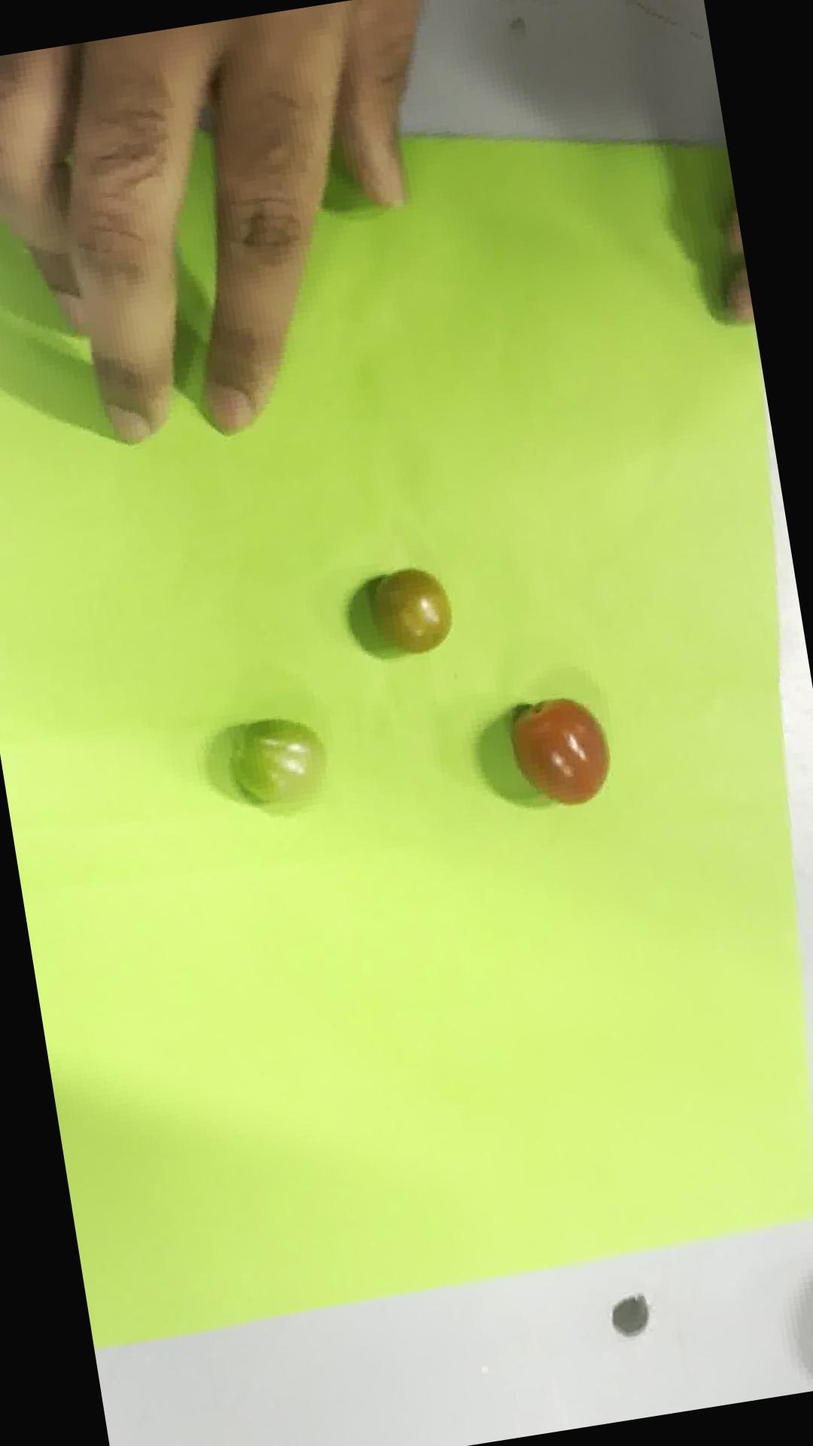green_cherry_tomato: (234, 720, 323, 806)
red_cherry_tomato: (509, 697, 610, 805)
yellow_cherry_tomato: (373, 569, 451, 652)
